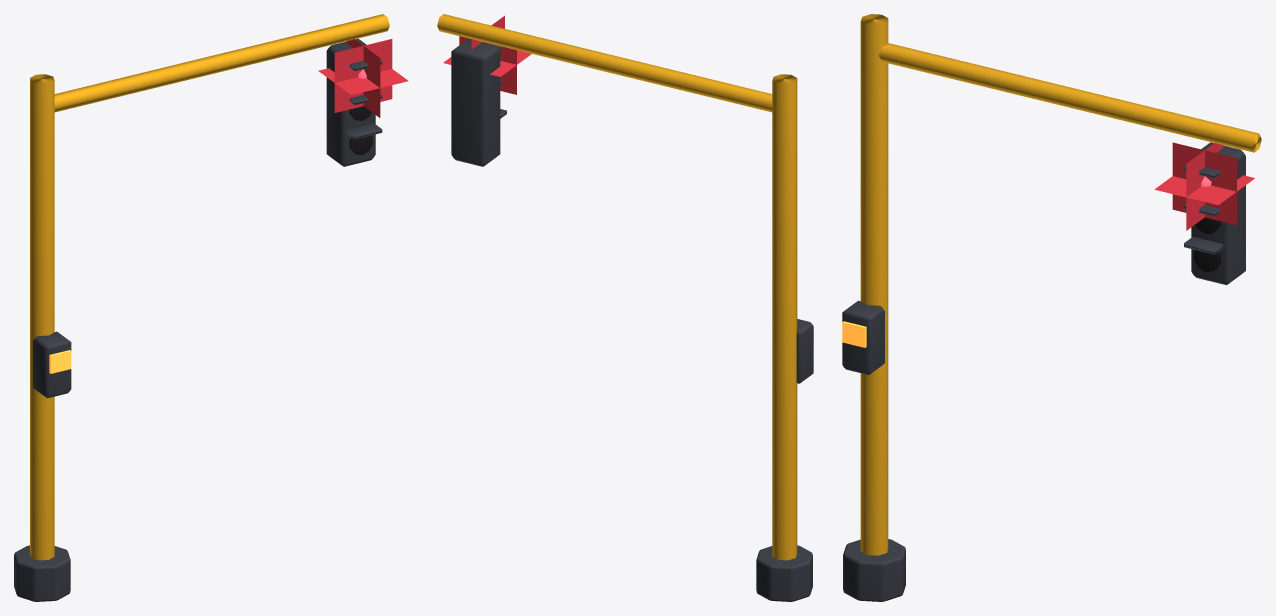
File: city_traffic_light.glb
3 renders of one model, left to right at view 1: azimuth 30°, elevation 25°; view 2: azimuth 150°, elevation 25°; view 3: azimuth 330°, elevation 25°, orthographic. The views are drawn at different scales.
Parts seen in each view (by area): view 1: TrafficLight; view 2: TrafficLight; view 3: TrafficLight.
Part boxes in pixels (left/top/right/bottom): TrafficLight: left=14, top=14, right=408, bottom=601; TrafficLight: left=437, top=14, right=813, bottom=601; TrafficLight: left=842, top=14, right=1261, bottom=601.
Bounding box in the file's own units: 4.29 × 5.7 × 0.8793.
